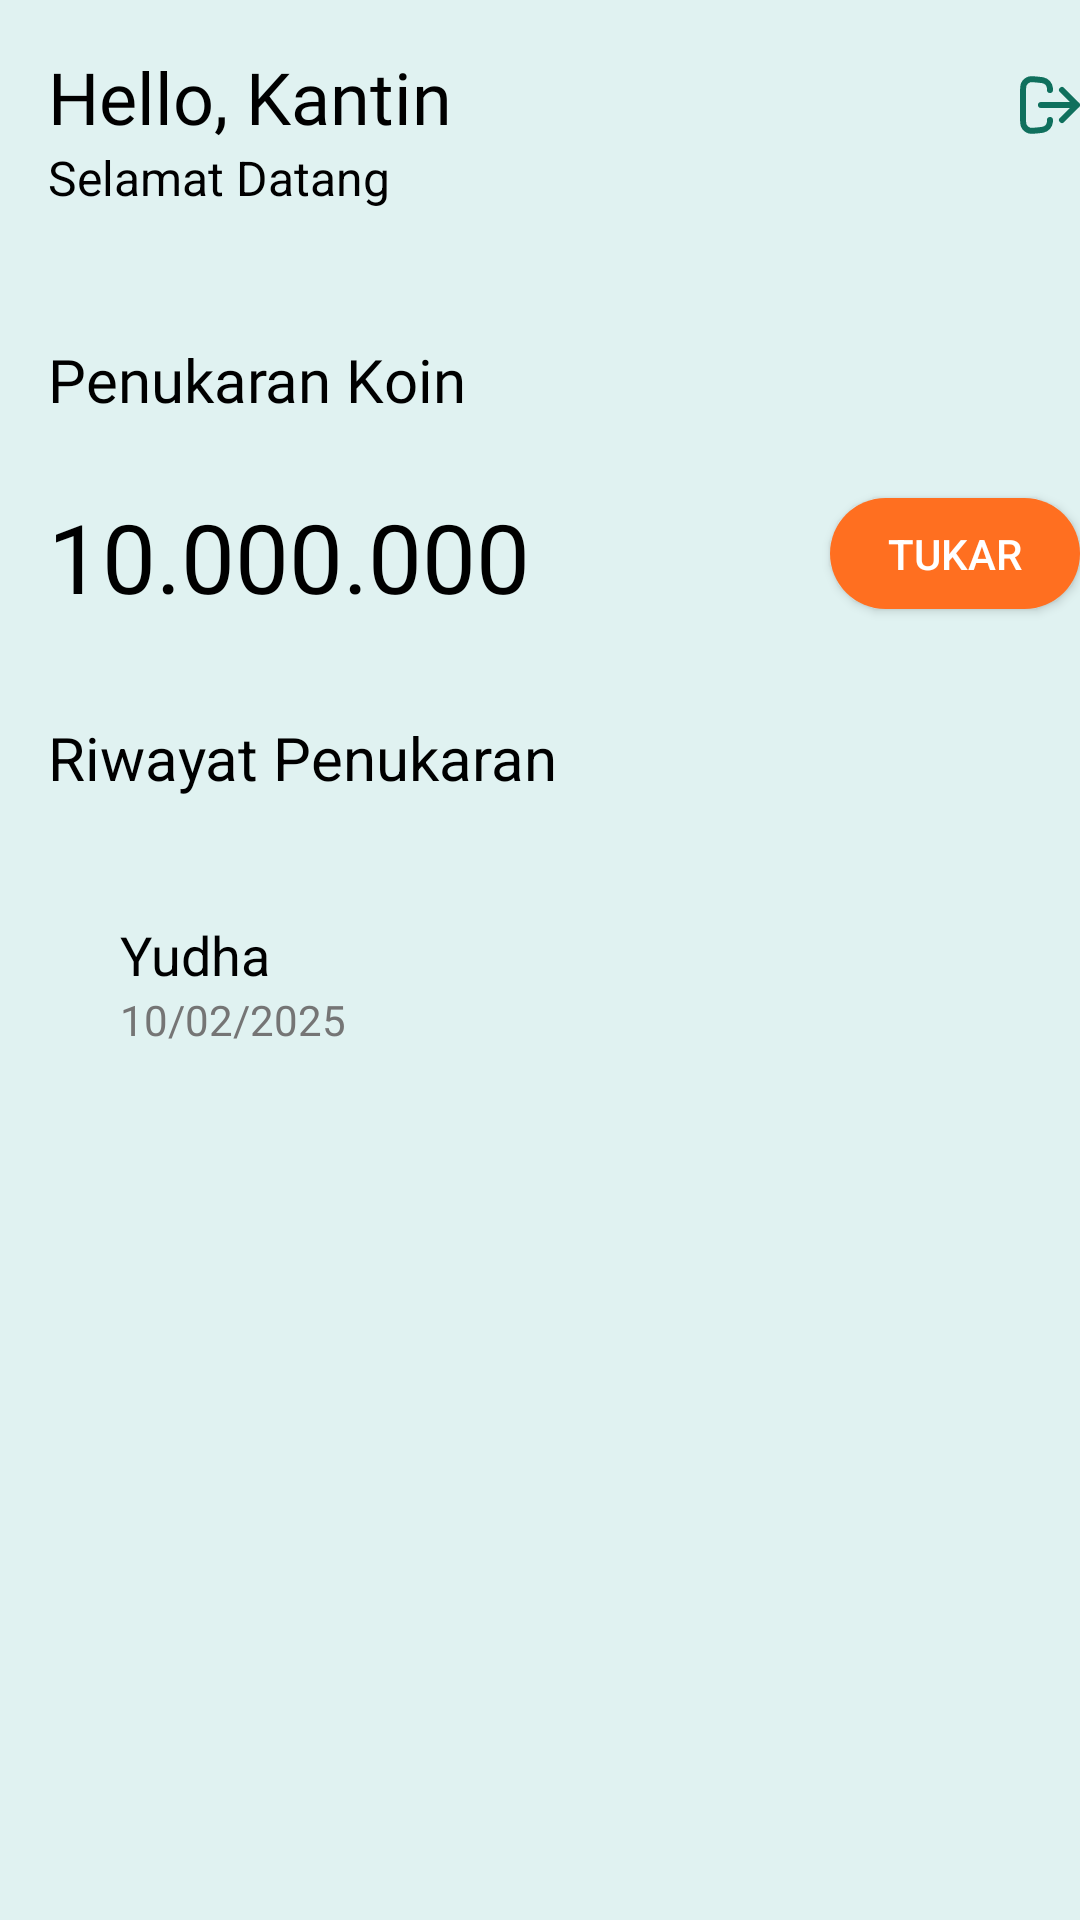

Locate icon controls on the screen. Image size 1080w x 1920h, boxes as box(x1, y1, x2, y2).
log out: box(1020, 76, 1080, 134)
